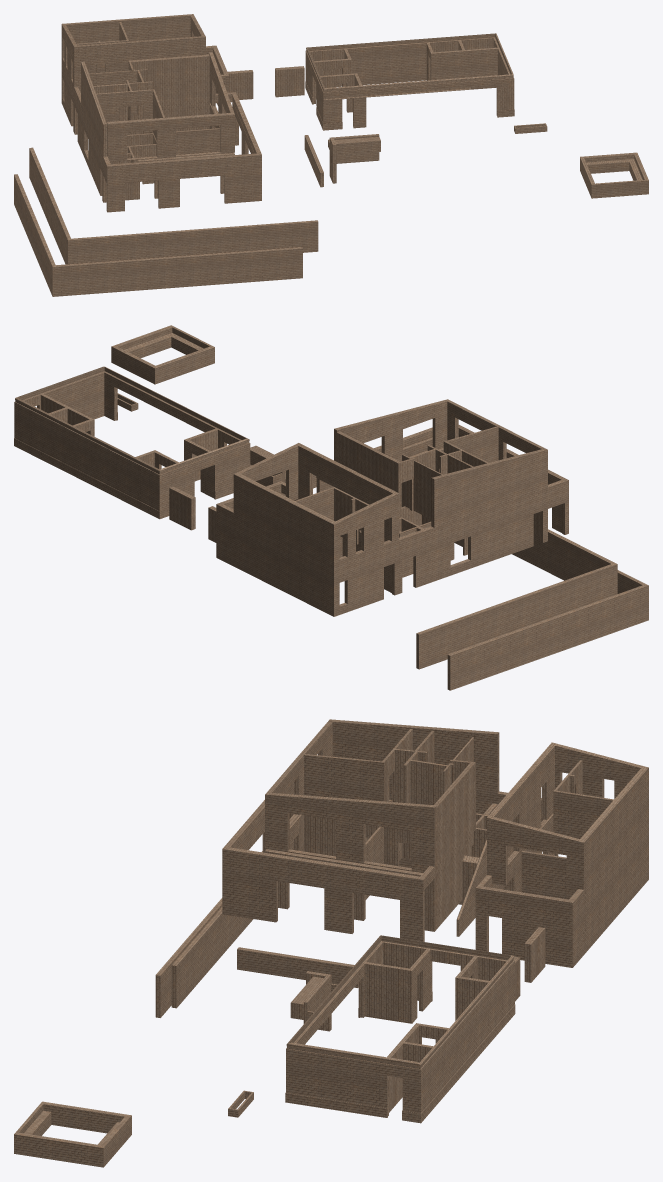
The model's file is C01_Tex03.glb.
3 renders of one model, top to bottom at view 1: azimuth 30°, elevation 25°; view 2: azimuth 150°, elevation 25°; view 3: azimuth 270°, elevation 25°, orthographic. The views are drawn at different scales.
Parts seen in each view (by area): view 1: C03W_Wall.001; view 2: C03W_Wall.001; view 3: C03W_Wall.001.
Part boxes in pixels (left/top/right/bottom): C03W_Wall.001: left=14, top=14, right=648, bottom=296; C03W_Wall.001: left=14, top=325, right=648, bottom=690; C03W_Wall.001: left=14, top=719, right=648, bottom=1167.
Size of the model in its own units: 47.63 by 13.23 by 35.33.
Materials: 1 (1 with a texture image).
